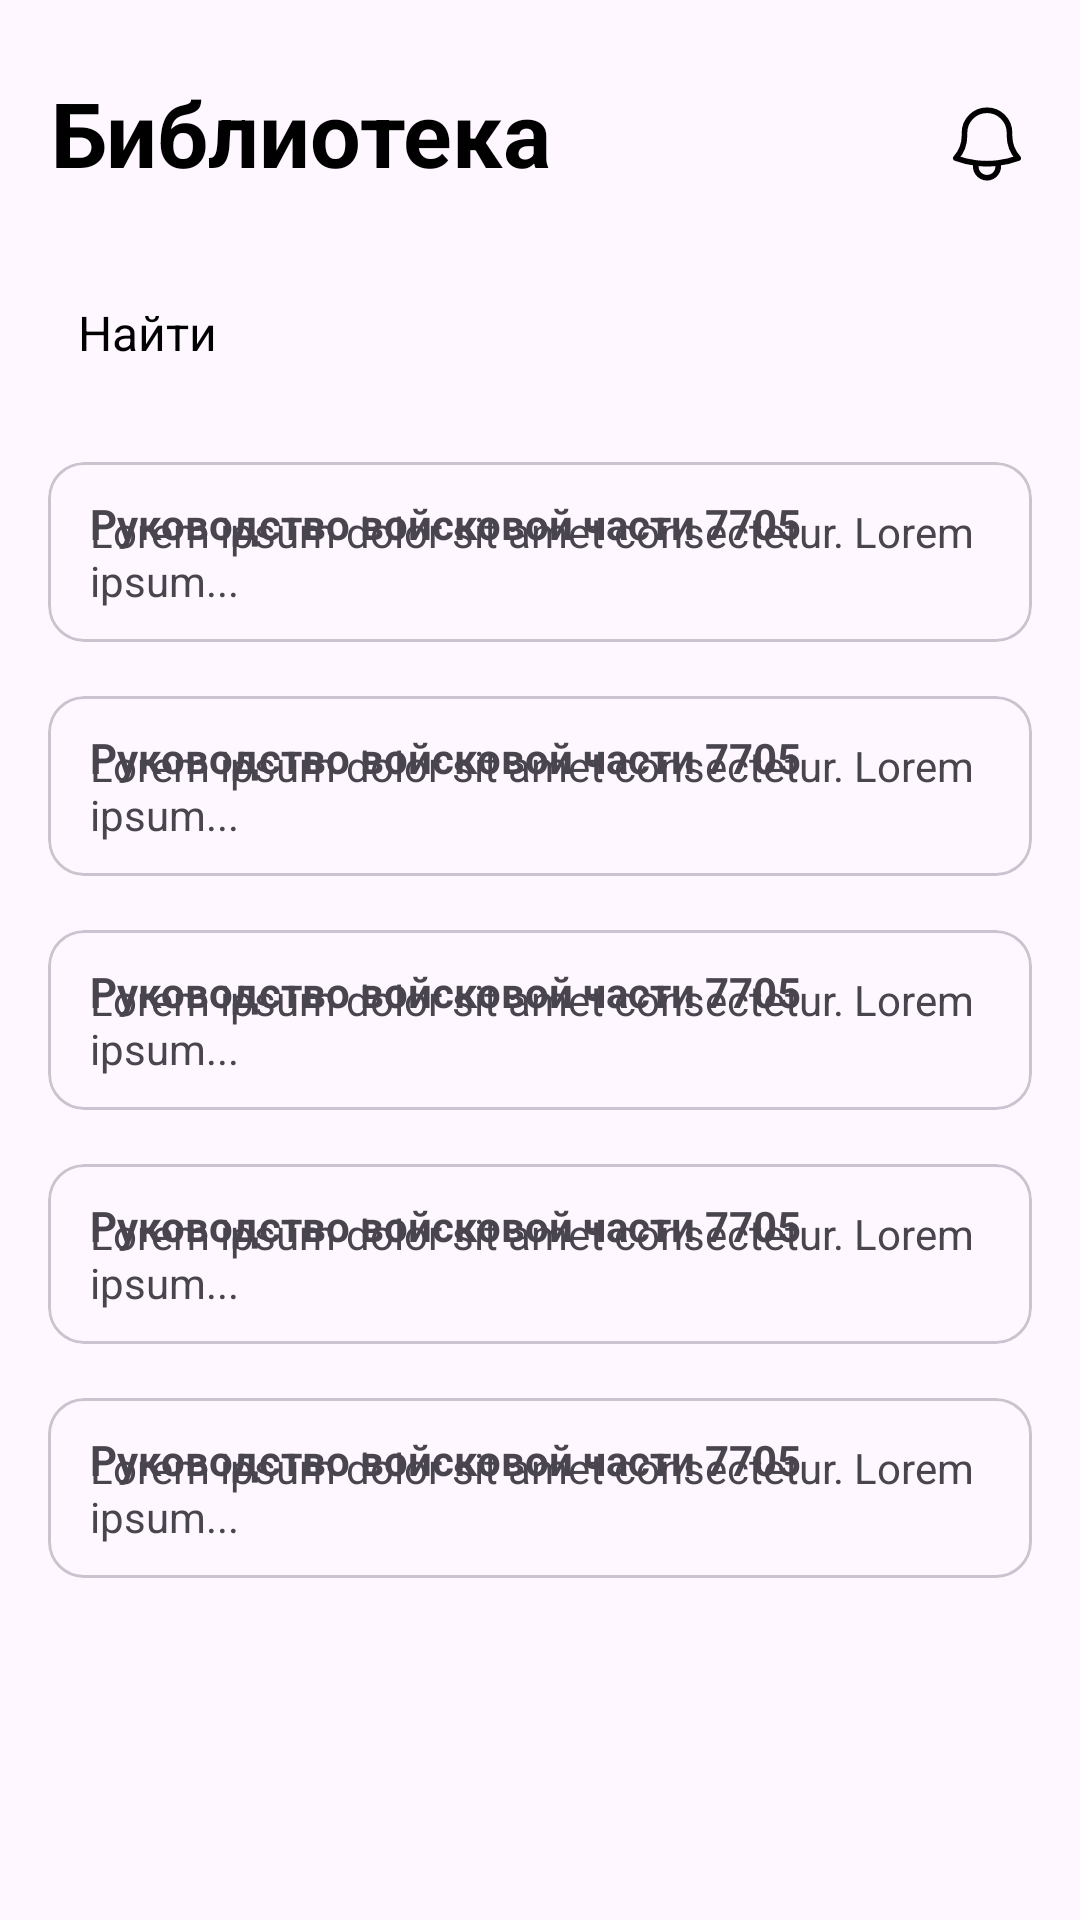

Screen size 1080×1920. Icon name, then its center in pixels as (x=x, y=y):
bell: (x=987, y=144)
